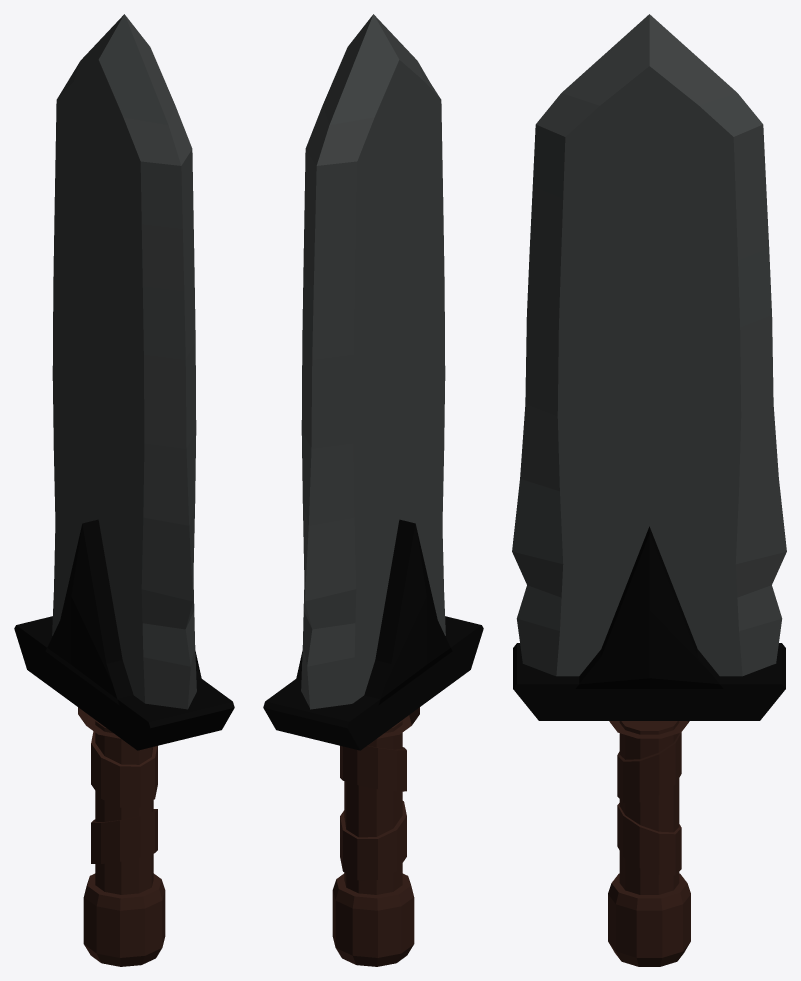
File: sword.fbx
The picture shows the model from 3 angles, left to right: view 1: azimuth 30°, elevation 25°; view 2: azimuth 150°, elevation 25°; view 3: azimuth 270°, elevation 25°; orthographic projection.
Parts seen in each view (by area): view 1: Plane, Cube, Cylinder; view 2: Plane, Cube, Cylinder; view 3: Plane, Cube, Cylinder.
Boxes of the visible parts, x1=… form: Plane: x1=52, y1=14, x2=196, y2=709; Cube: x1=14, y1=519, x2=234, y2=750; Cylinder: x1=78, y1=707, x2=165, y2=966; Plane: x1=301, y1=14, x2=445, y2=709; Cube: x1=263, y1=519, x2=483, y2=750; Cylinder: x1=332, y1=707, x2=419, y2=966; Plane: x1=512, y1=14, x2=786, y2=676; Cube: x1=513, y1=526, x2=785, y2=720; Cylinder: x1=608, y1=721, x2=690, y2=966.
Size of the model in its own units: 14.38 by 121 by 32.2.
